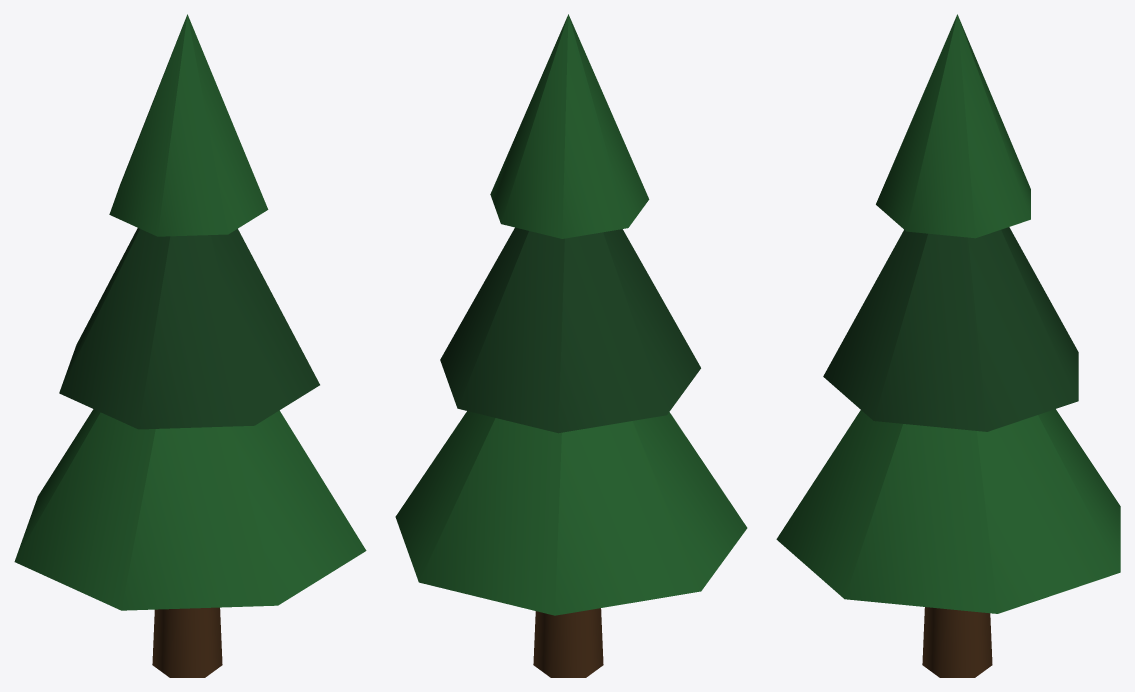
The model's file is pine_tree.glb.
The picture shows the model from 3 angles, left to right: view 1: azimuth 30°, elevation 25°; view 2: azimuth 150°, elevation 25°; view 3: azimuth 270°, elevation 25°; orthographic projection.
Visible parts, largest first — view 1: pine-tree-crown-low, pine-tree-crown-mid, pine-tree-crown-top, pine-tree-trunk; view 2: pine-tree-crown-low, pine-tree-crown-mid, pine-tree-crown-top, pine-tree-trunk; view 3: pine-tree-crown-low, pine-tree-crown-mid, pine-tree-crown-top, pine-tree-trunk.
Part boxes in pixels (box(x1,y1,x2,y2)): pine-tree-crown-low: box(14, 409, 366, 610); pine-tree-crown-mid: box(59, 228, 319, 429); pine-tree-crown-top: box(109, 14, 268, 236); pine-tree-trunk: box(152, 607, 222, 677); pine-tree-crown-low: box(395, 411, 747, 615); pine-tree-crown-mid: box(440, 227, 700, 433); pine-tree-crown-top: box(490, 14, 649, 238); pine-tree-trunk: box(533, 608, 603, 677); pine-tree-crown-low: box(776, 409, 1120, 613); pine-tree-crown-mid: box(823, 227, 1078, 431); pine-tree-crown-top: box(876, 14, 1030, 238); pine-tree-trunk: box(922, 607, 992, 677).
Size of the model in its own units: 1.21 by 2.46 by 1.18.
